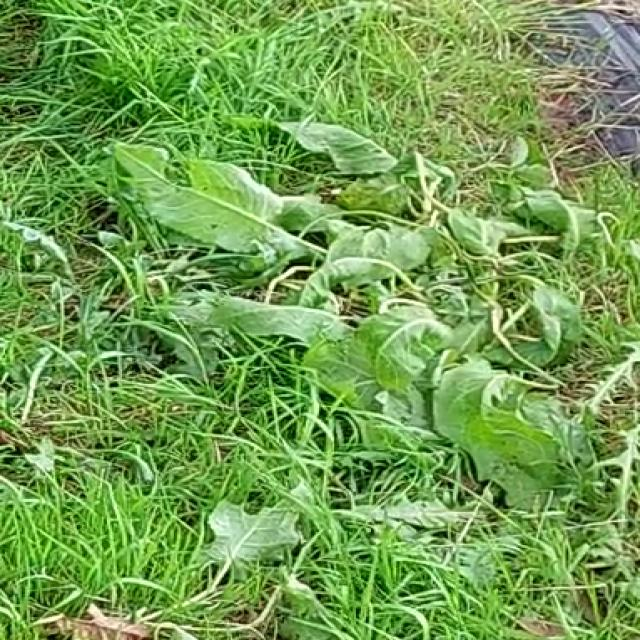organic waste: (147, 103, 637, 446)
